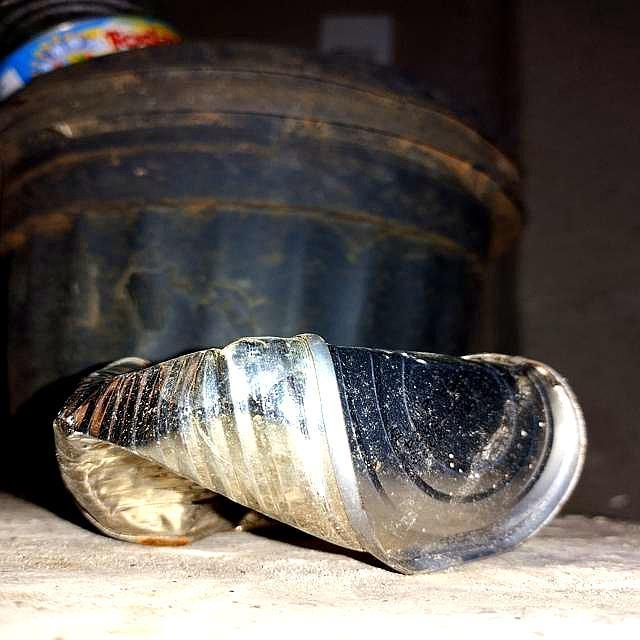Non-biodegradable: (51, 332, 590, 577)
